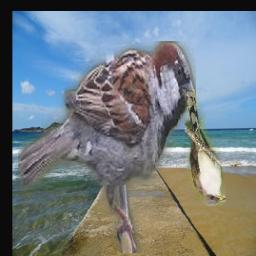Cuckoo: (186, 90, 226, 207)
Sparrow: (19, 41, 197, 253)
